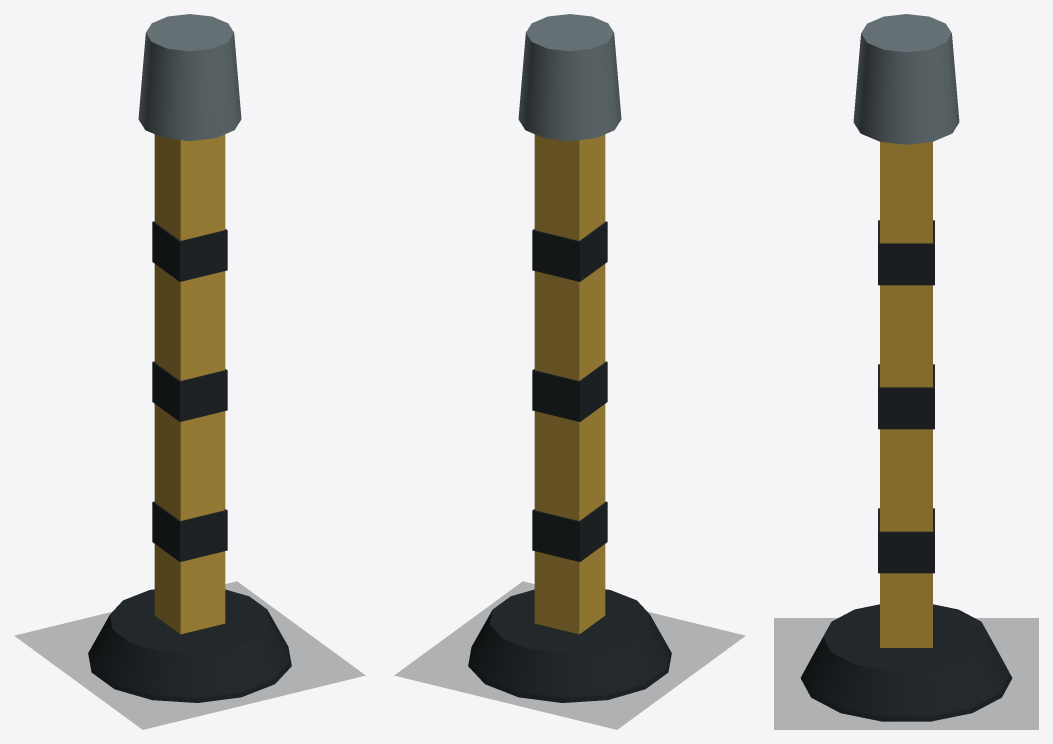
Rendered from hp_room_rm_core_warning_pylon.glb.
3 renders of one model, left to right at view 1: azimuth 30°, elevation 25°; view 2: azimuth 150°, elevation 25°; view 3: azimuth 270°, elevation 25°, orthographic. The views are drawn at different scales.
Parts seen in each view (by area): view 1: pylon_post, pylon_base, contact_shadow, beacon_cage, stripe_2, stripe_0, stripe_1; view 2: pylon_post, pylon_base, contact_shadow, beacon_cage, stripe_2, stripe_0, stripe_1; view 3: pylon_post, pylon_base, contact_shadow, beacon_cage, stripe_0, stripe_1, stripe_2.
Part boxes in pixels (x1,y1,x2,y2): pylon_post: (154, 134, 225, 634); pylon_base: (88, 589, 291, 702); contact_shadow: (15, 581, 364, 729); beacon_cage: (138, 14, 241, 140); stripe_2: (152, 221, 227, 281); stripe_0: (152, 501, 227, 561); stripe_1: (152, 361, 227, 421); pylon_post: (534, 134, 605, 634); pylon_base: (468, 589, 671, 702); contact_shadow: (395, 581, 744, 729); beacon_cage: (518, 14, 621, 140); stripe_2: (532, 221, 607, 281); stripe_0: (532, 501, 607, 561); stripe_1: (532, 361, 607, 421); pylon_post: (880, 142, 932, 647); pylon_base: (800, 604, 1012, 721); contact_shadow: (774, 618, 1038, 729); beacon_cage: (853, 14, 959, 144); stripe_0: (878, 508, 934, 573); stripe_1: (878, 364, 934, 429); stripe_2: (878, 220, 934, 285).
Size of the model in its own units: 0.7 by 1.88 by 0.7.
